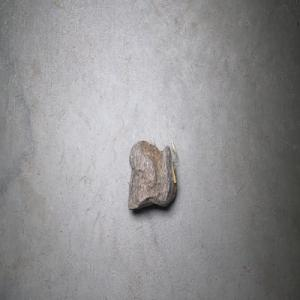Rock: (127, 137, 178, 210)
